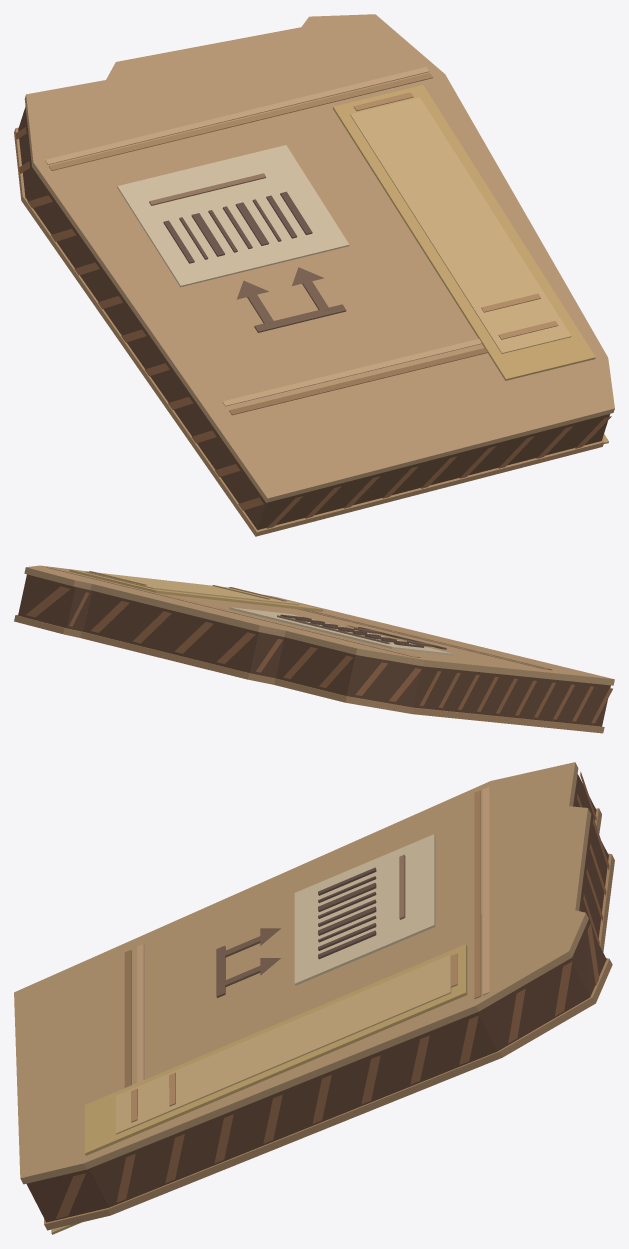
Rendered from cardboard.glb.
3 renders of one model, top to bottom at view 1: azimuth 30°, elevation 25°; view 2: azimuth 150°, elevation 25°; view 3: azimuth 270°, elevation 25°, orthographic. The views are drawn at different scales.
Parts seen in each view (by area): view 1: Cardboard kraft liner, corrugated edge and shipping label; view 2: Cardboard kraft liner, corrugated edge and shipping label; view 3: Cardboard kraft liner, corrugated edge and shipping label.
Part boxes in pixels (x1=…): Cardboard kraft liner, corrugated edge and shipping label: x1=14, y1=14, x2=614, y2=536; Cardboard kraft liner, corrugated edge and shipping label: x1=14, y1=565, x2=614, y2=733; Cardboard kraft liner, corrugated edge and shipping label: x1=14, y1=762, x2=614, y2=1234.
Bounding box in the file's own units: 0.2217 × 0.1392 × 0.2571.
